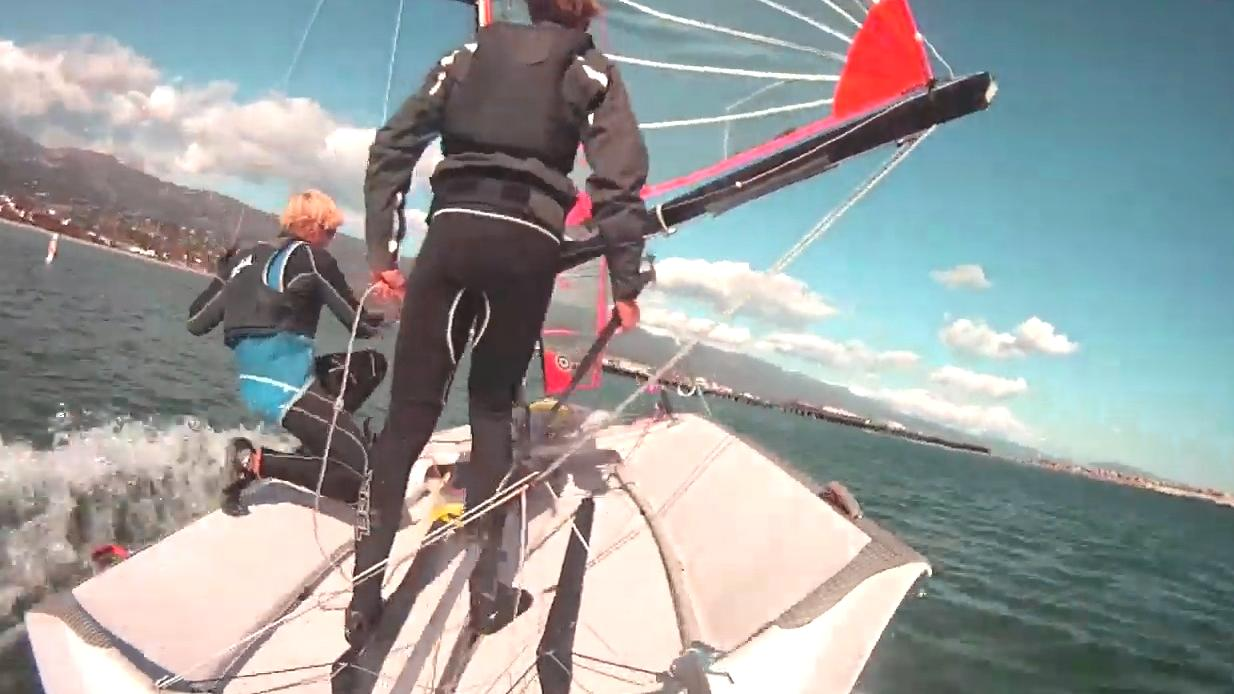boat: (24, 257, 933, 694), (600, 0, 1001, 232)
land: (0, 143, 282, 279), (604, 332, 918, 438), (324, 235, 370, 297)
person: (345, 0, 649, 647)
sea: (668, 393, 1234, 694), (0, 222, 287, 694)
sky: (642, 0, 1234, 496), (0, 0, 473, 212)
